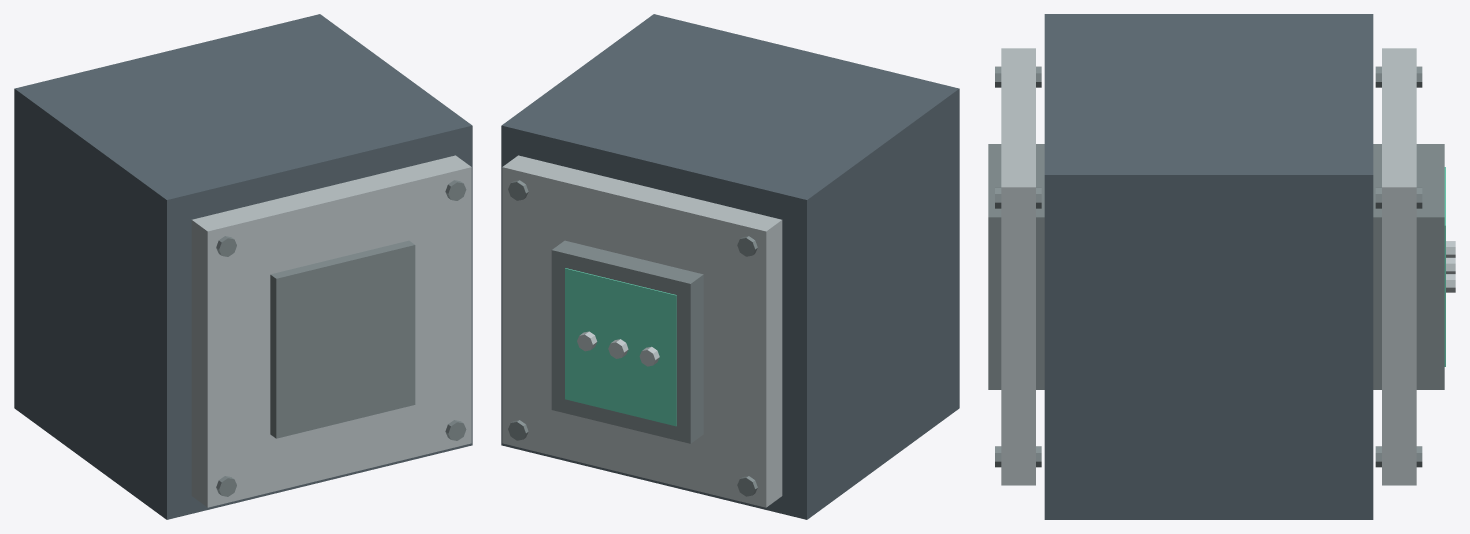
The model's file is body.obj.
3 renders of one model, left to right at view 1: azimuth 30°, elevation 25°; view 2: azimuth 150°, elevation 25°; view 3: azimuth 270°, elevation 25°, orthographic. The views are drawn at different scales.
Bounding box in the file's own units: 0.88 × 0.88 × 1.08.
